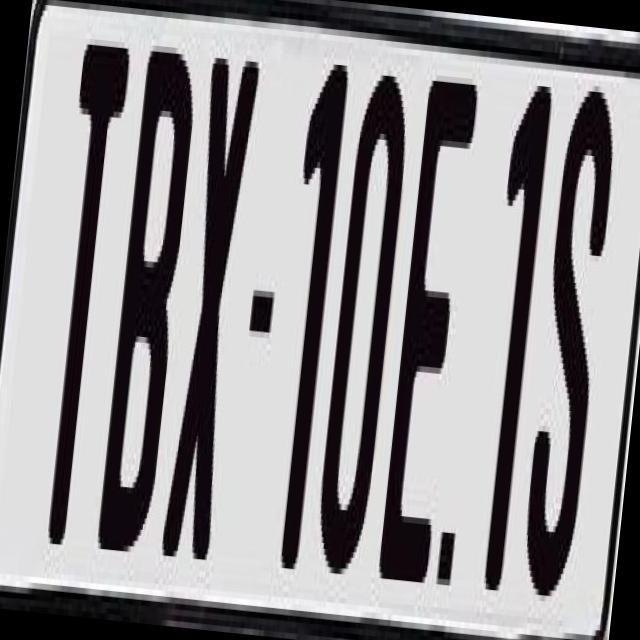0: (310, 66, 419, 600)
1: (257, 44, 353, 581), (463, 84, 559, 608)
B: (90, 38, 202, 565)
E: (376, 74, 486, 589)
S: (513, 83, 619, 626)
T: (28, 32, 134, 541)
X: (156, 39, 263, 566)
